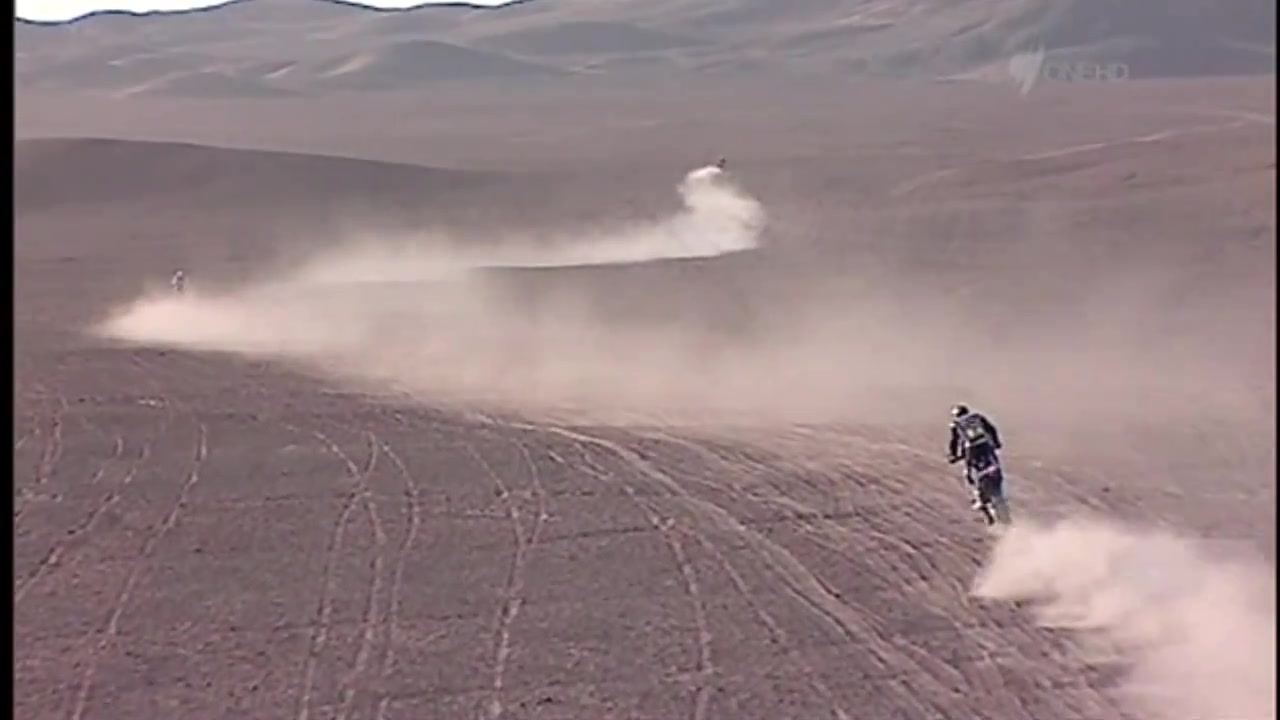motorbike: (945, 443, 1014, 531)
